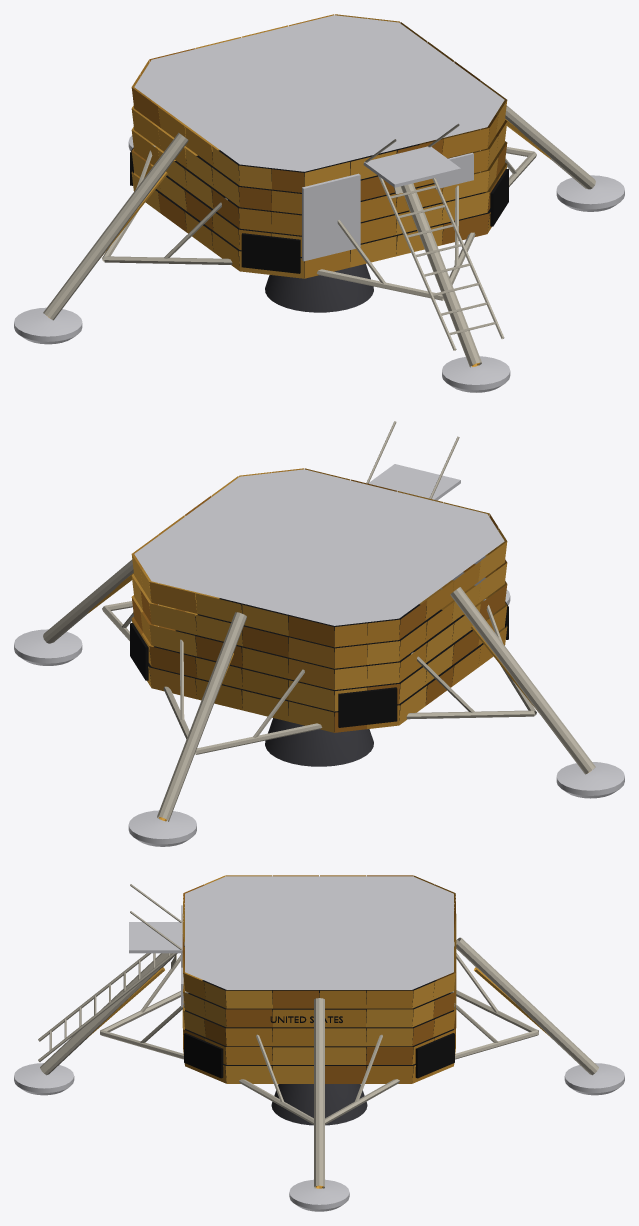
The model's file is lm_descent.glb.
The picture shows the model from 3 angles, top to bottom: view 1: azimuth 30°, elevation 25°; view 2: azimuth 150°, elevation 25°; view 3: azimuth 270°, elevation 25°; orthographic projection. The views are drawn at different scales.
Parts seen in each view (by area): view 1: model; view 2: model; view 3: model.
Part boxes in pixels (<box>): model: <box>14,14,624,392</box>; model: <box>14,421,624,846</box>; model: <box>14,875,624,1211</box>.
Size of the model in its own units: 9.54 by 3.58 by 9.54.
1 material, 1 textured.
